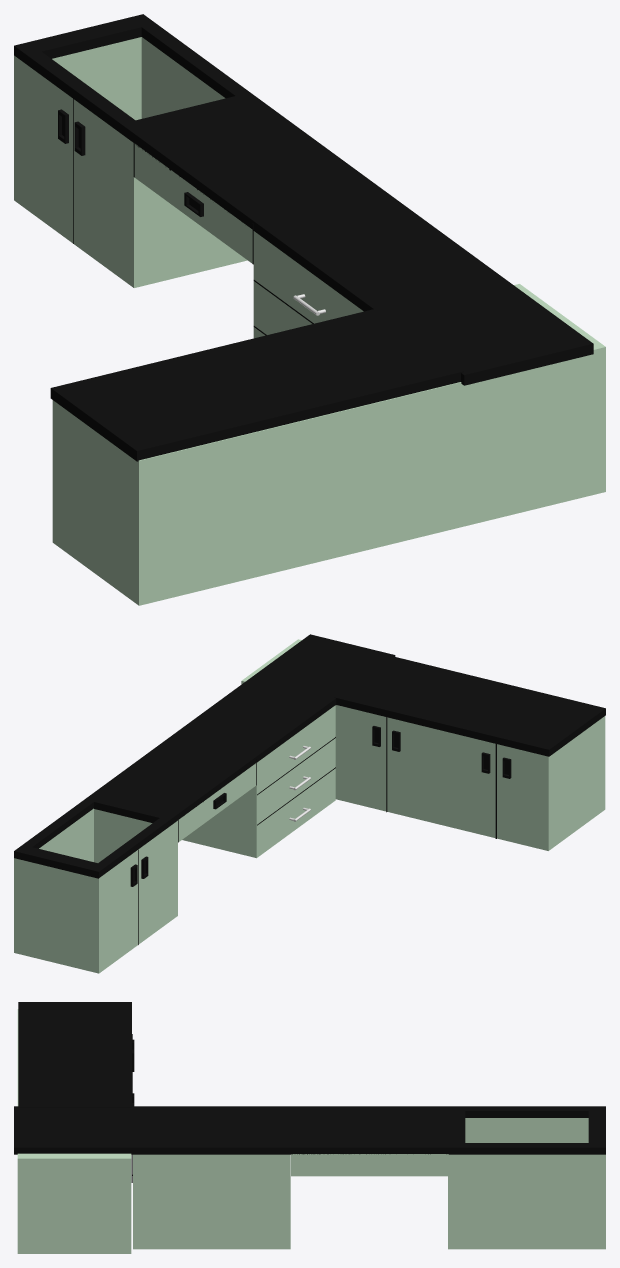
3 views of the same model, one above another, from view 1: azimuth 30°, elevation 25°; view 2: azimuth 150°, elevation 25°; view 3: azimuth 270°, elevation 25° (orthographic). The views are drawn at different scales.
Parts seen in each view (by area): view 1: 藥櫃; view 2: 藥櫃; view 3: 藥櫃.
Part boxes in pixels (x1,y1,x2,y2): 藥櫃: (14, 14, 605, 605); 藥櫃: (14, 634, 605, 973); 藥櫃: (14, 1002, 605, 1253).
Bounding box in the file's own units: 297 × 94.15 × 495.
